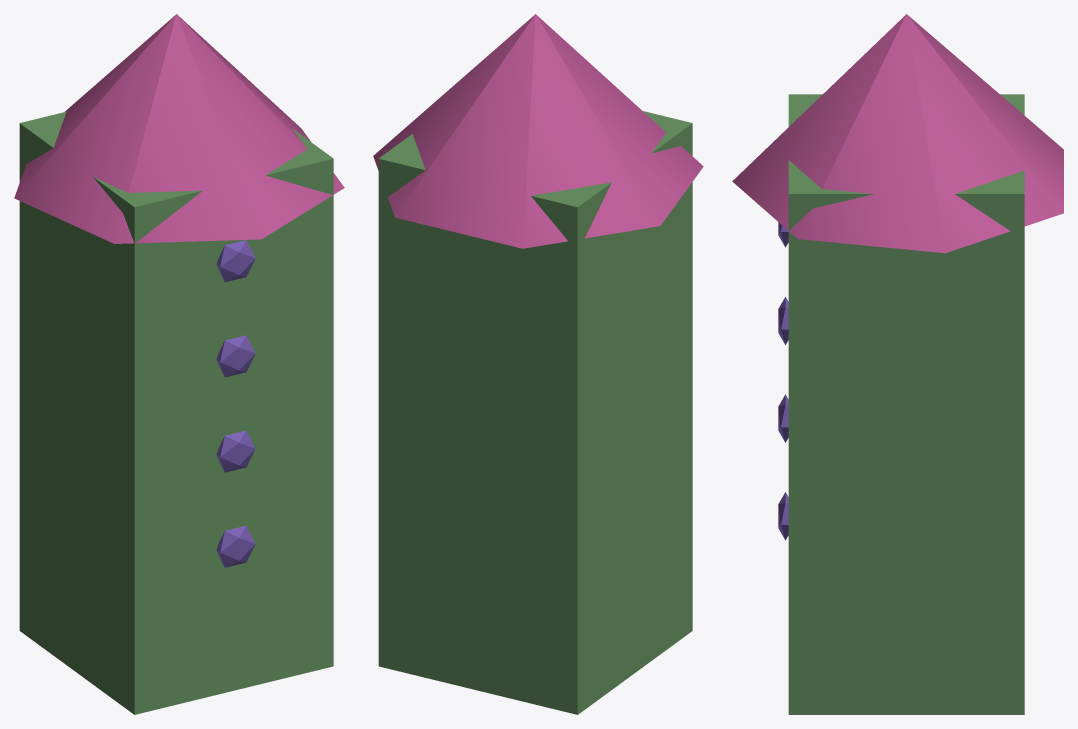
Rendered from watchtower.glb.
The picture shows the model from 3 angles, left to right: view 1: azimuth 30°, elevation 25°; view 2: azimuth 150°, elevation 25°; view 3: azimuth 270°, elevation 25°; orthographic projection. The views are drawn at different scales.
Visible parts, largest first — view 1: tower_body, tower_crown, window_3, window_0, window_1, window_2; view 2: tower_body, tower_crown; view 3: tower_body, tower_crown.
Part boxes in pixels (left/top/right/bottom): tower_body: left=19, top=111, right=333, bottom=714; tower_crown: left=14, top=14, right=344, bottom=243; window_3: left=216, top=240, right=255, bottom=282; window_0: left=216, top=525, right=255, bottom=567; window_1: left=216, top=430, right=255, bottom=472; window_2: left=216, top=335, right=255, bottom=377; tower_body: left=378, top=111, right=692, bottom=714; tower_crown: left=373, top=14, right=703, bottom=248; tower_body: left=788, top=94, right=1024, bottom=714; tower_crown: left=732, top=14, right=1063, bottom=253.
Size of what is drawn, in the model's own units: 3.31 by 7 by 3.23.
